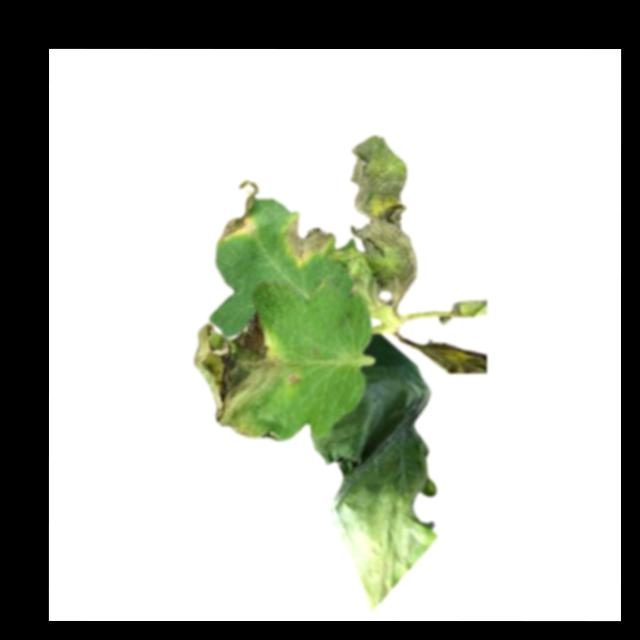Late_blight: (316, 334, 441, 611), (335, 136, 415, 316), (193, 311, 279, 439), (217, 181, 261, 241), (284, 211, 334, 259)
